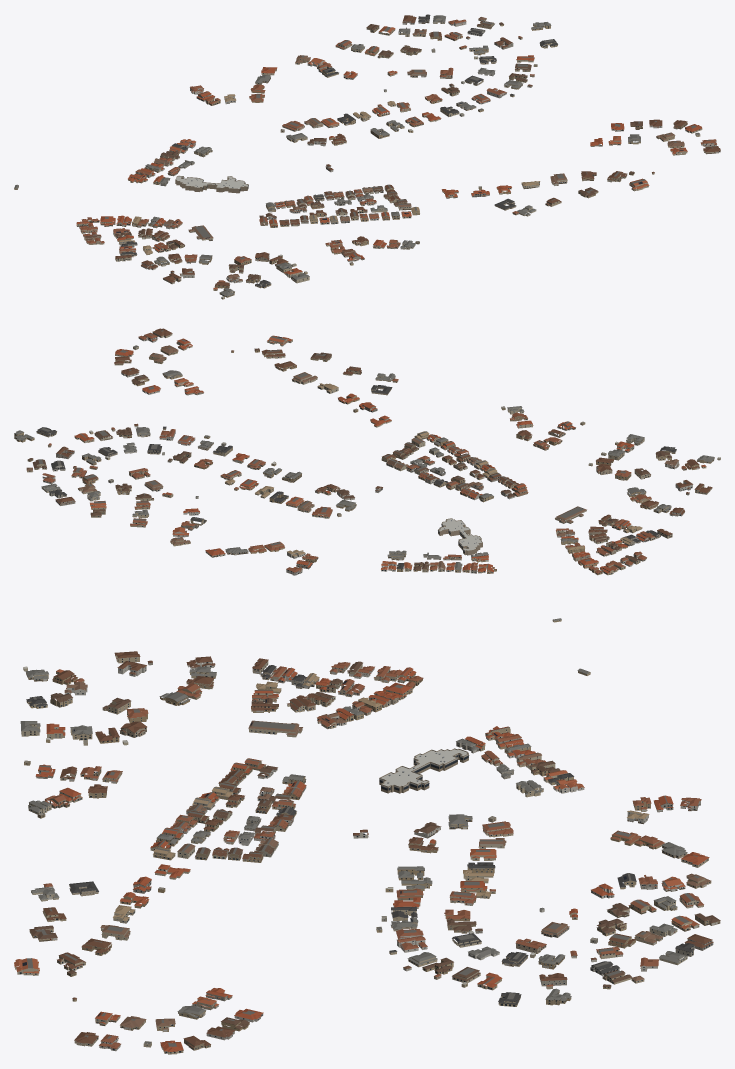
The picture shows the model from 3 angles, top to bottom: view 1: azimuth 30°, elevation 25°; view 2: azimuth 150°, elevation 25°; view 3: azimuth 270°, elevation 25°; orthographic projection. The views are drawn at different scales.
Visible parts, largest first — view 1: buildings_r1_c1_lod0; view 2: buildings_r1_c1_lod0; view 3: buildings_r1_c1_lod0.
Boxes of the visible parts, bbox=[...] form: buildings_r1_c1_lod0: bbox=[14, 14, 720, 299]; buildings_r1_c1_lod0: bbox=[14, 328, 720, 622]; buildings_r1_c1_lod0: bbox=[14, 651, 720, 1054].
Bounding box in the file's own units: 1151 × 89.34 × 814.
